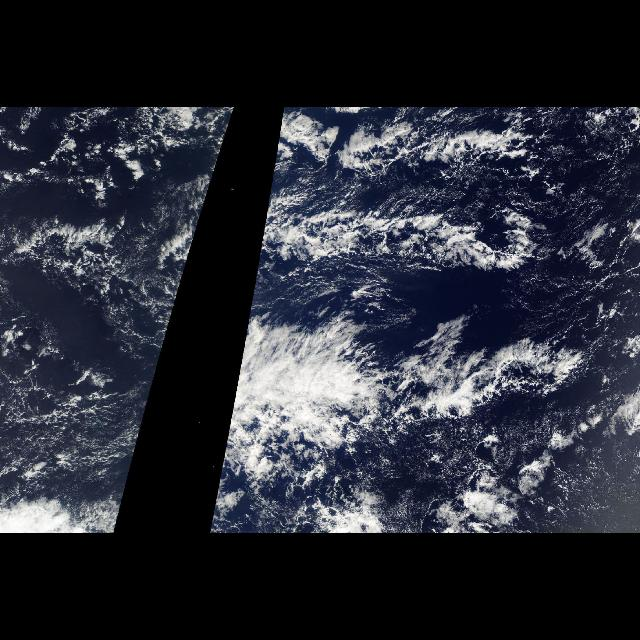Fish: (216, 110, 640, 532), (157, 110, 235, 308)
Gravel: (3, 224, 146, 496)
Sugar: (5, 351, 164, 493)
